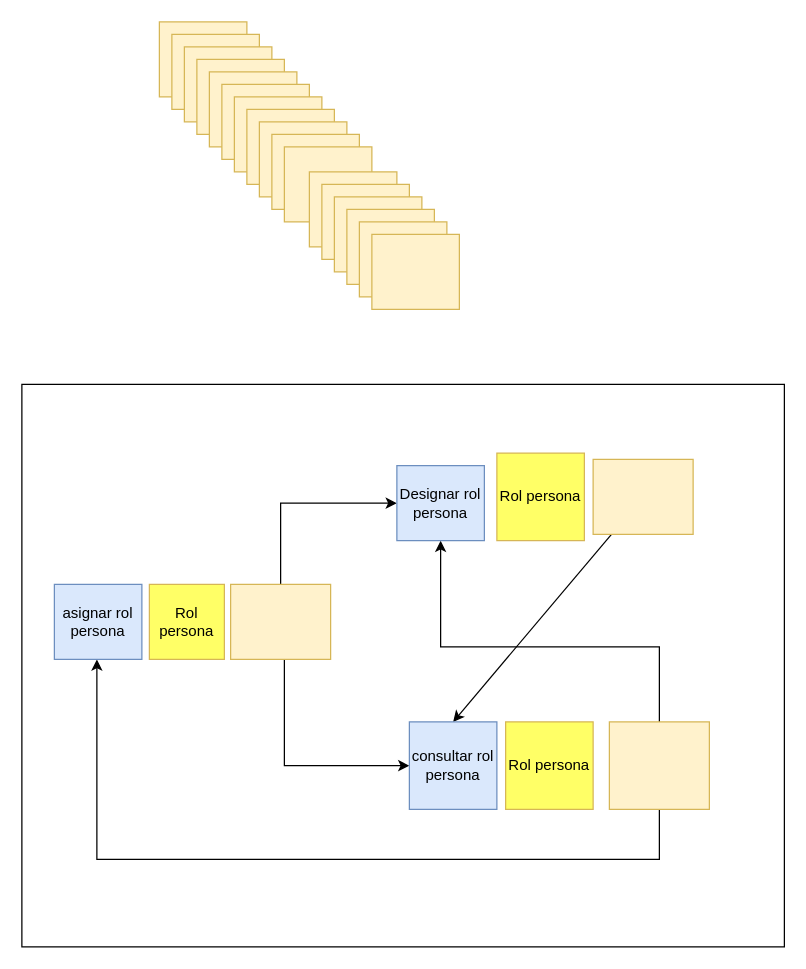
This 806x969 diagram has some shape labels left out. Here are the shapes that lost their labels. From the top down, the centre of each, then its label:
the point at 642,496: Rol persona designado
the point at 280,621: Rol persona asignado
the point at 658,765: Rol persona consultado
